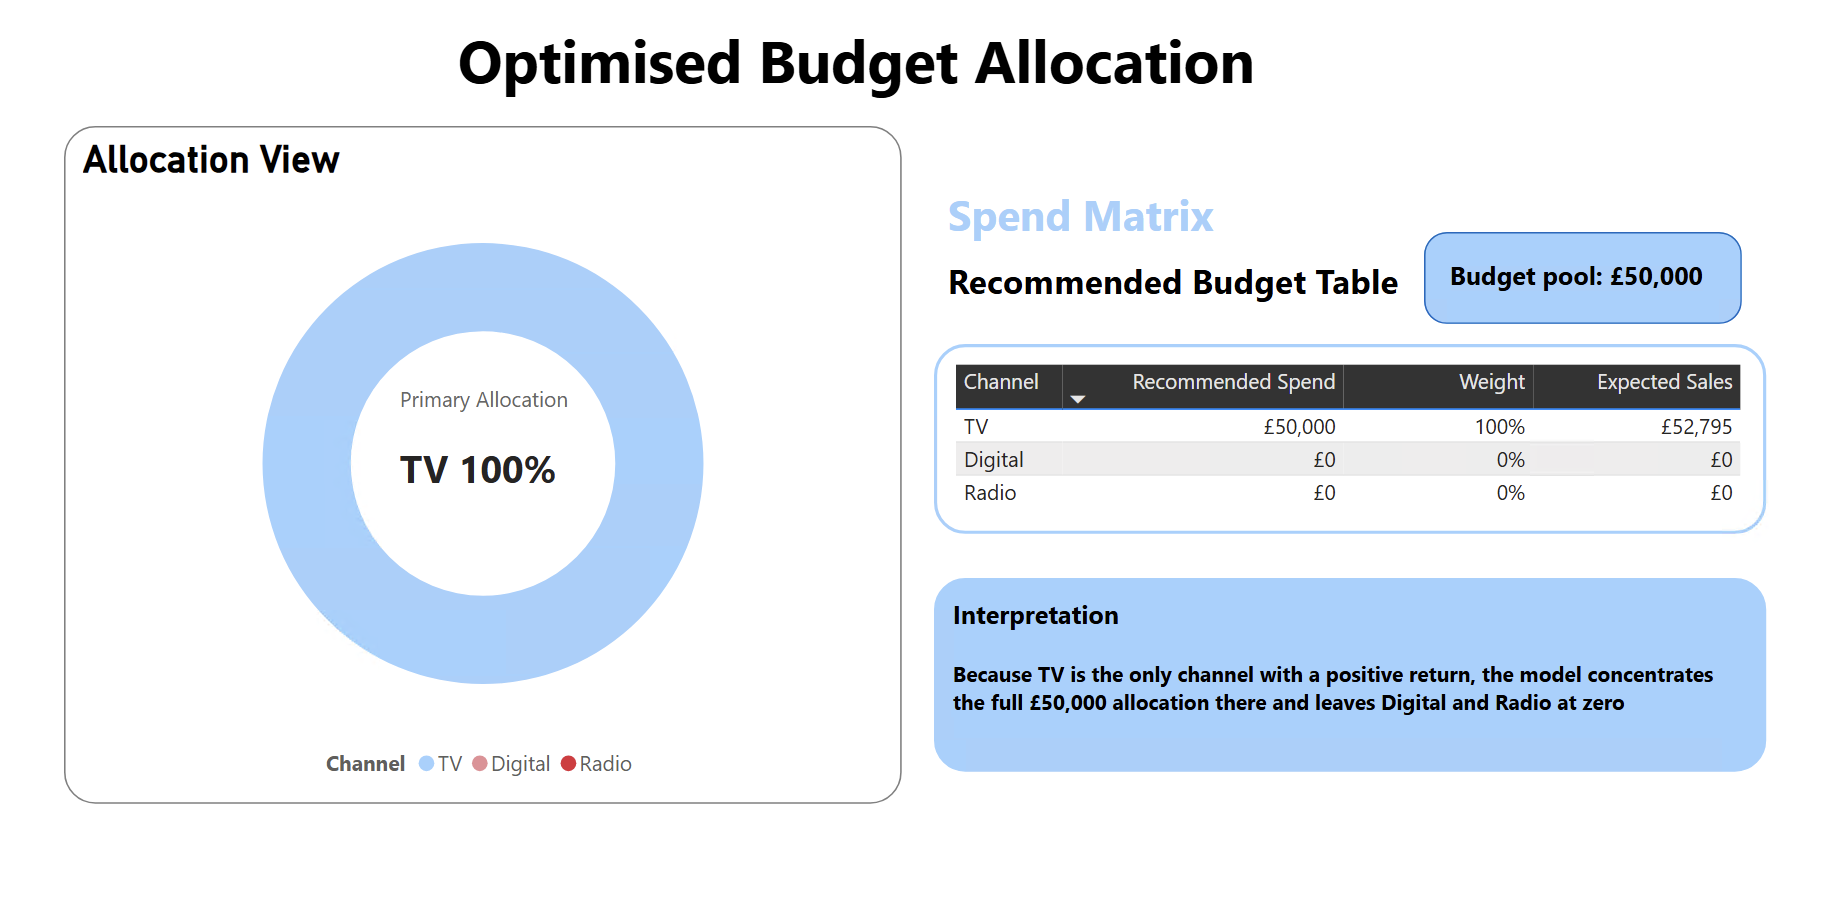

The dashboard page shown, as its layout file describes it:
{"tool":"powerbi","page":{"name":"Budget Allocation","canvas":[1280,720],"ordinal":2},"visuals":[{"type":"donutChart","title":"Allocation View","fields":{"Category":["budget_allocation_powerbi.channel"],"Y":["Sum(budget_allocation_powerbi.weight_pct)"]},"box":[155.5,99.4,534.2,432.2],"z":0},{"type":"textbox","box":[364.6,258.8,118.6,38.2],"z":1000},{"type":"textbox","box":[364.6,295.8,118.6,57.4],"z":2000},{"type":"tableEx","fields":{"Values":["budget_allocation_powerbi.channel","Sum(budget_allocation_powerbi.recommended_spend)","budget_allocation_powerbi.Weight % Display","Sum(budget_allocation_powerbi.expected_sales)"]},"box":[710.1,238.4,530.4,121.1],"z":3000},{"type":"textbox","box":[710.1,387.6,530.4,123.7],"z":4000},{"type":"textbox","box":[713.9,178.5,308.5,48.4],"z":5000},{"type":"shape","box":[1022.5,167,202.7,58.6],"z":6000},{"type":"textbox","box":[1033.9,178.5,183.6,35.7],"z":7000},{"type":"textbox","box":[713.9,132.6,269,47.2],"z":8000},{"type":"textbox","box":[401.6,26.8,541.8,72.7],"z":9000}]}

Visuals, with their boxes on the page's 1280x720 design canvas (x1, y1, x2, y2). These are canvas units, not pixel positions in the 1826x912 screenshot, which may show the page scaled, cropped or inside an application window:
"Allocation View" donutChart: 156 99 690 532
textbox: 365 259 483 297
textbox: 365 296 483 353
tableEx - budget_allocation_powerbi.channel x Sum(budget_allocation_powerbi.recommended_spend): 710 238 1240 360
textbox: 710 388 1240 511
textbox: 714 178 1022 227
shape: 1022 167 1225 226
textbox: 1034 178 1218 214
textbox: 714 133 983 180
textbox: 402 27 943 100
